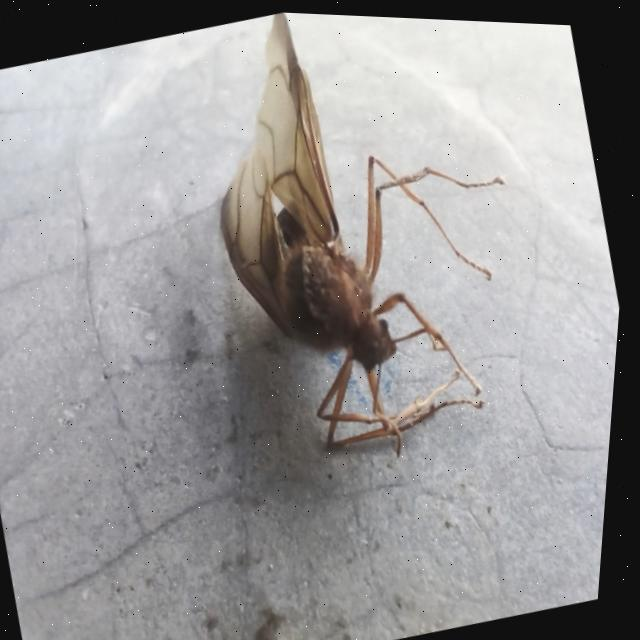Dead-Male-Alate: (161, 7, 579, 490)
